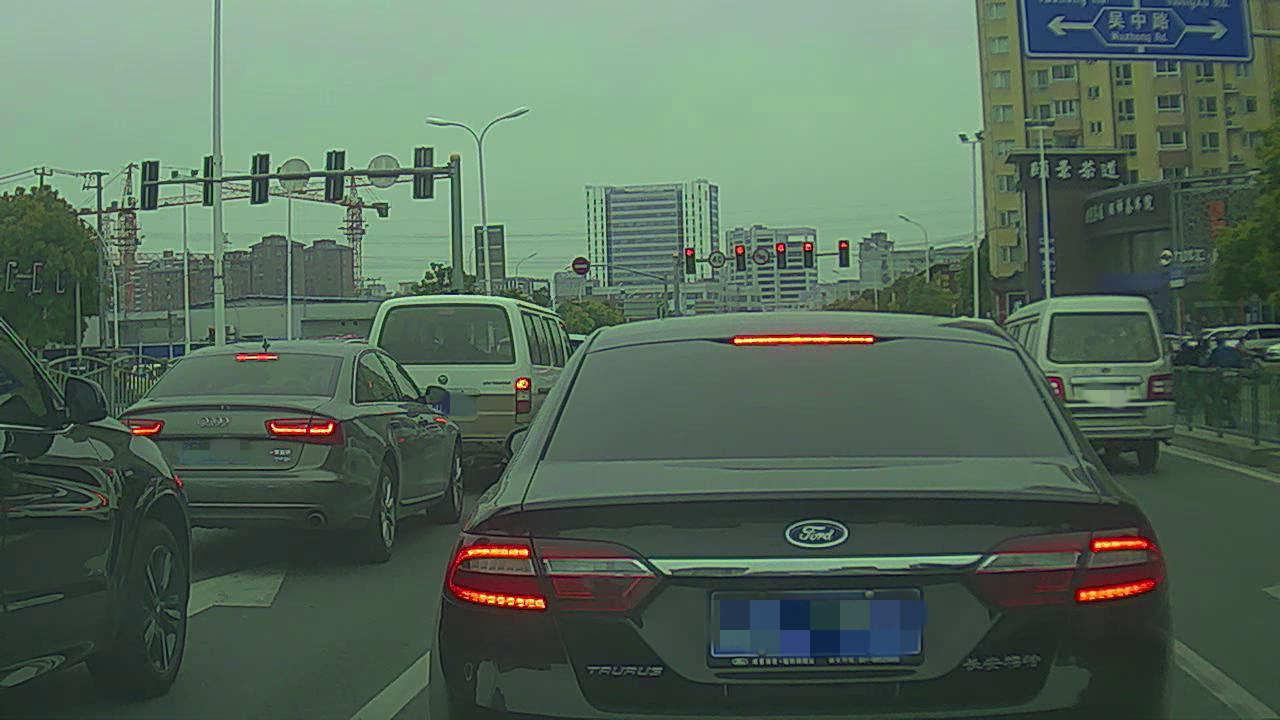traffic_light: (684, 246, 697, 276), (735, 244, 746, 271), (839, 241, 850, 267), (803, 242, 814, 266), (777, 243, 787, 269)
